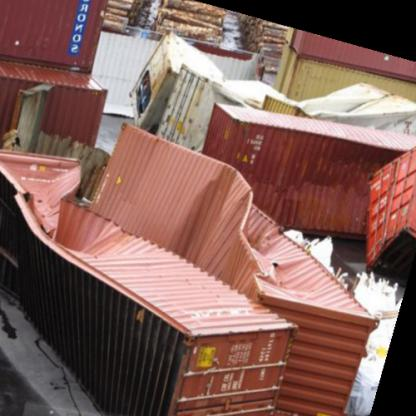Damage: (167, 128, 370, 362), (151, 33, 402, 127), (0, 146, 126, 305)
